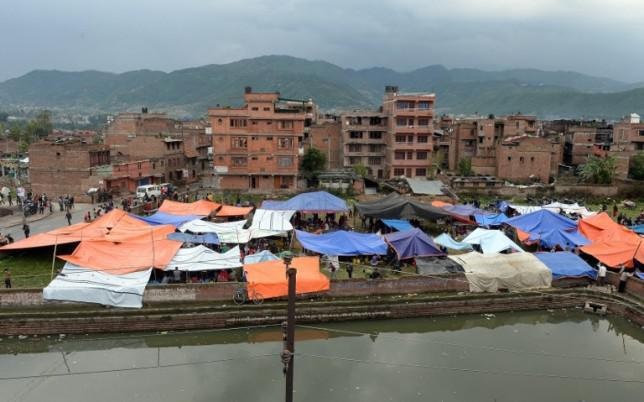affected: (204, 88, 314, 202), (381, 85, 438, 187)
